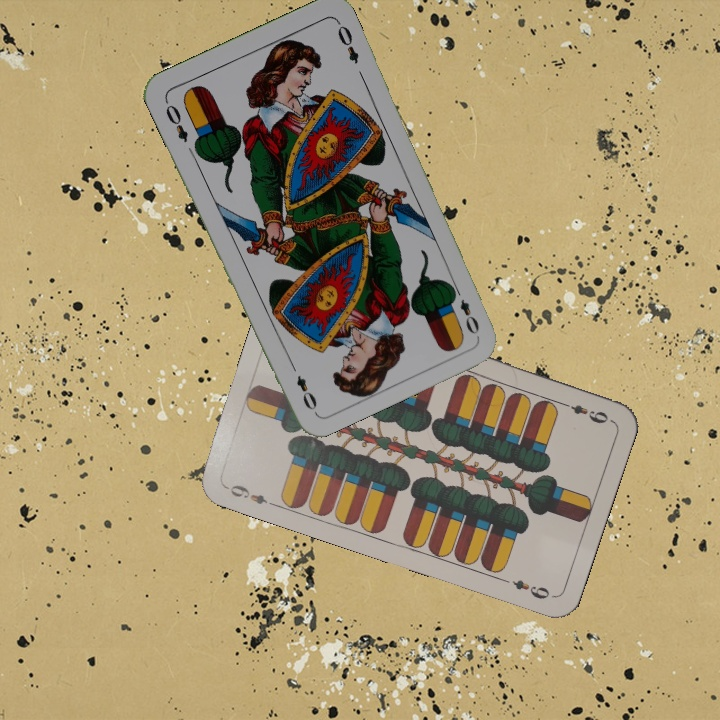E9: (222, 480, 279, 509), (556, 397, 611, 426)
EO: (447, 282, 482, 337), (160, 96, 191, 145)
